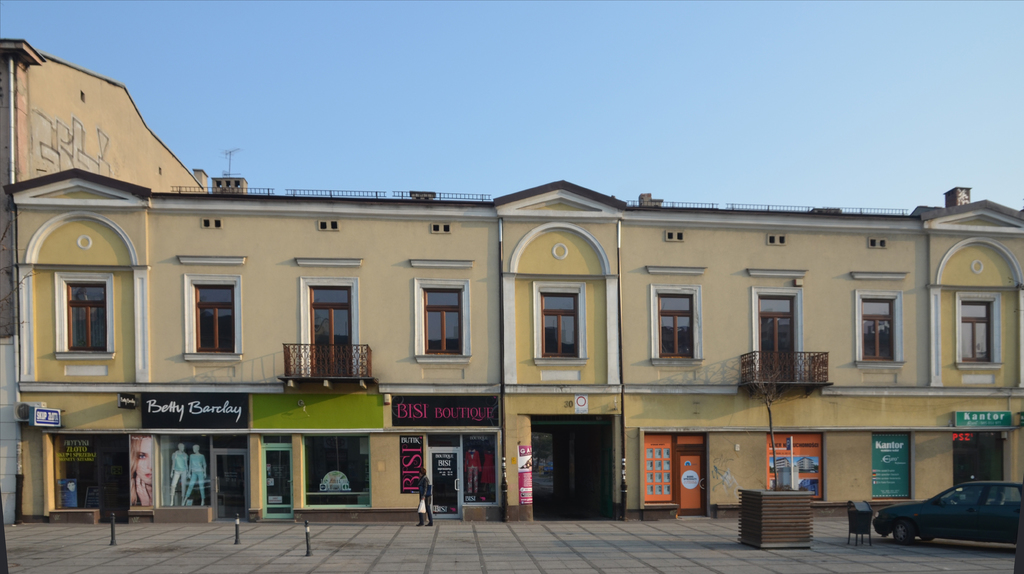Car: (871, 474, 1023, 547)
